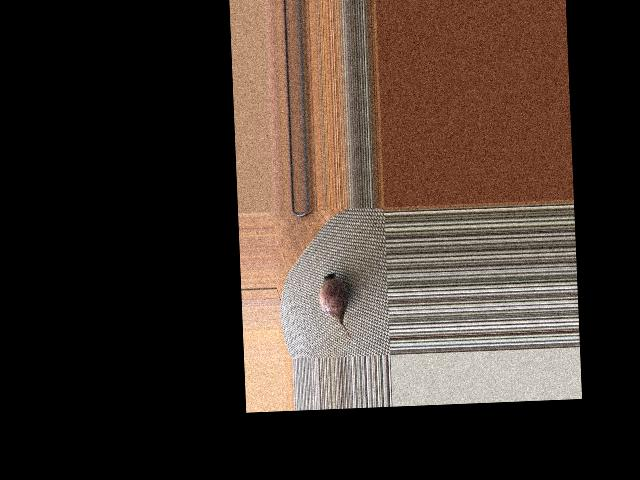beet: (318, 272, 357, 345)
